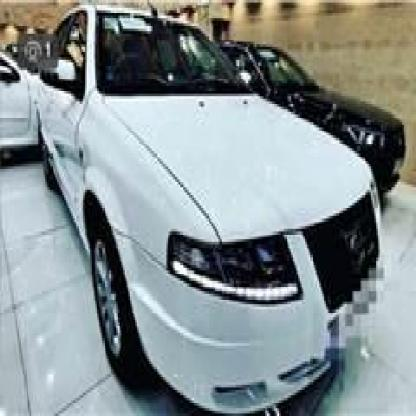Car: (42, 11, 380, 406), (201, 8, 411, 190), (0, 38, 62, 179)
